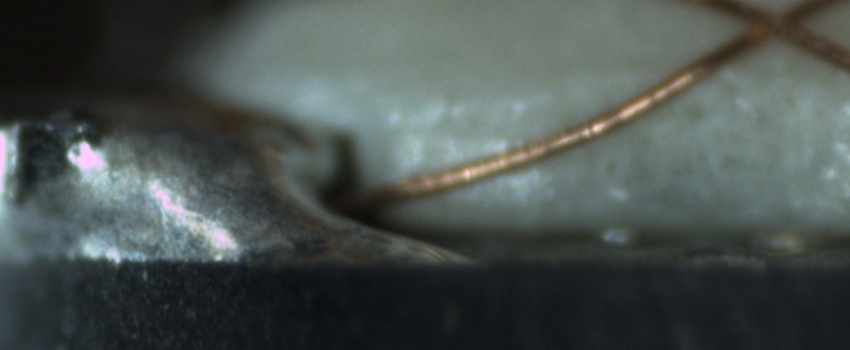CL: (731, 1, 816, 47)
DL: (400, 98, 527, 172)
